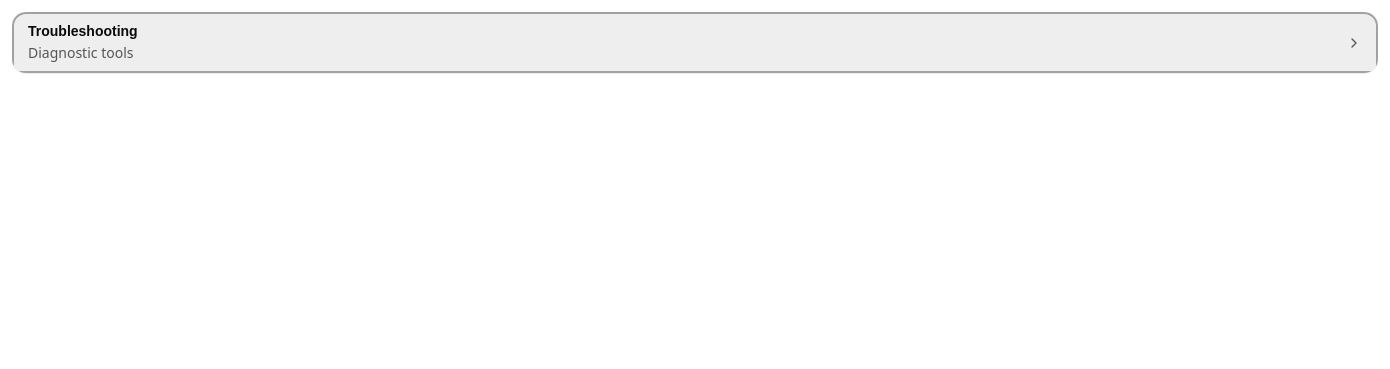
Test: AdvancedTroubleshootingGroup › locks Refresh online users while its action is pending
The width and height of the screenshot is (1390, 369).
Press Enter
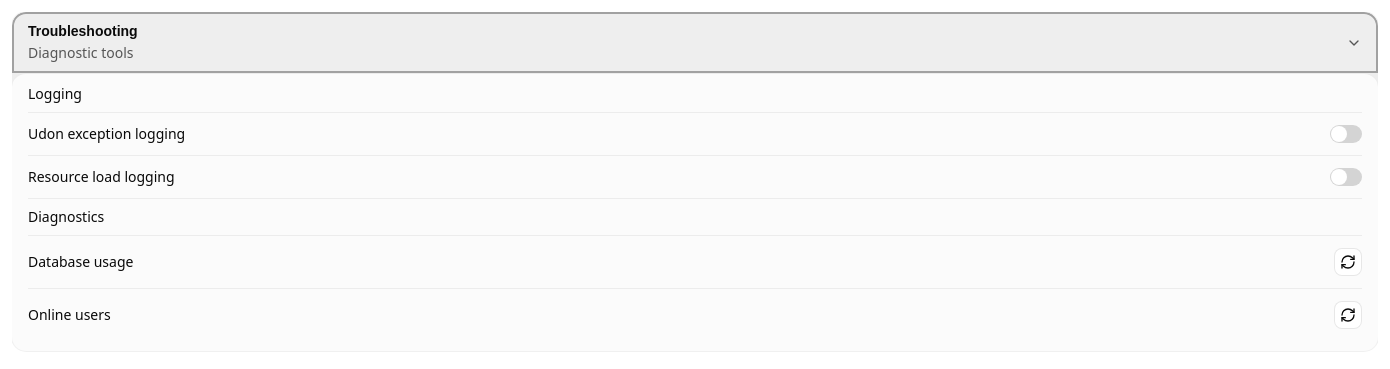
Click the button named "Refresh online users" at (1348, 314), box x1=1334 y1=300 x2=1362 y2=328
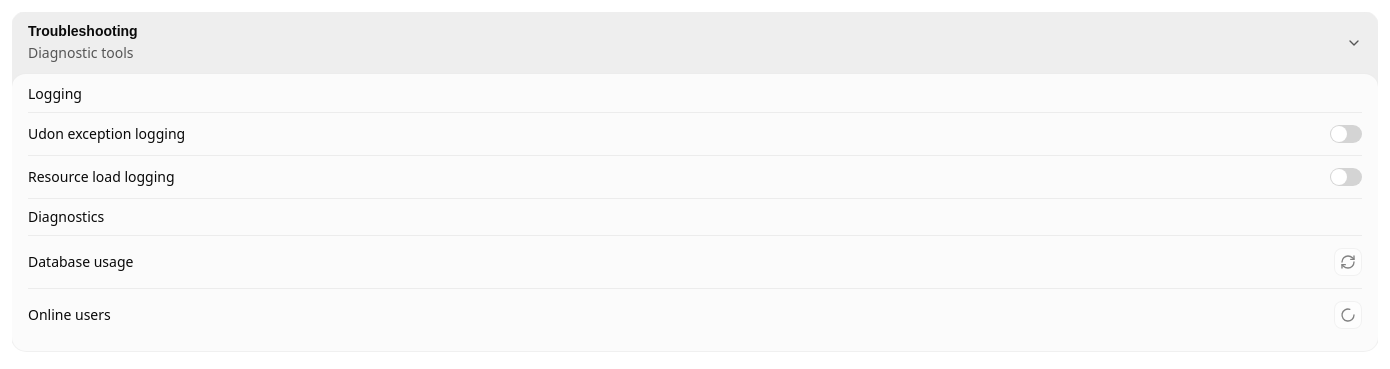
Check: the button named "Refresh online users" is disabled
Check: the message named "Loading" is shown, box x1=1340 y1=306 x2=1356 y2=322
Click the button named "Refresh online users" at (1348, 314), box x1=1334 y1=300 x2=1362 y2=328
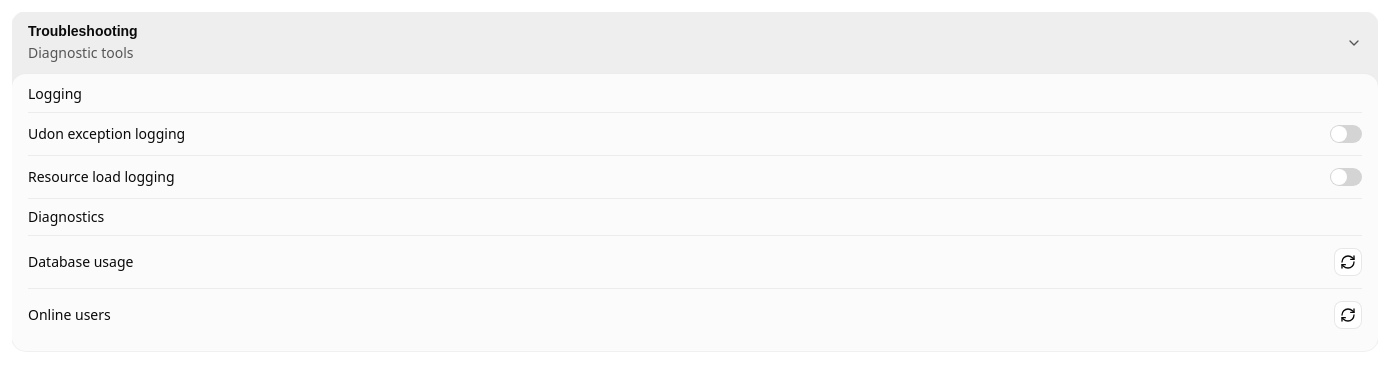
Check: the button named "Refresh online users" is enabled, box x1=1334 y1=300 x2=1362 y2=328
